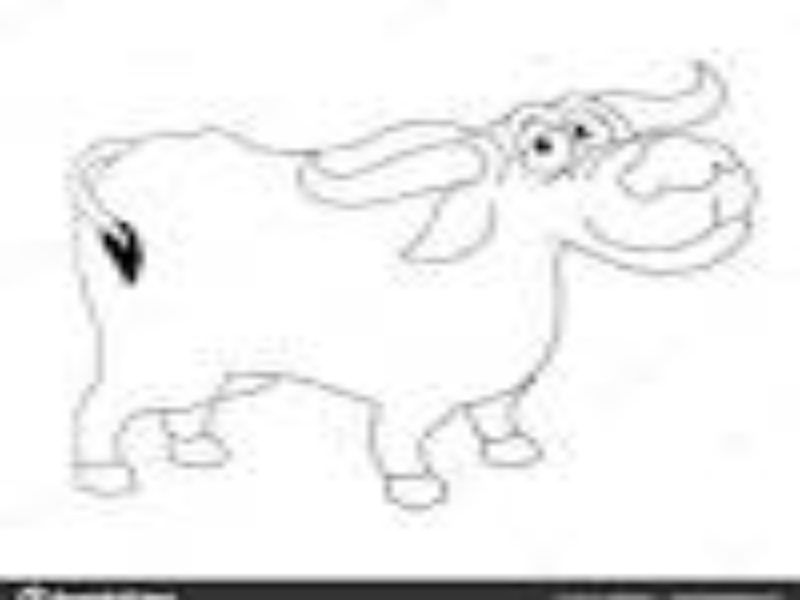buffalo: (38, 59, 777, 528)
